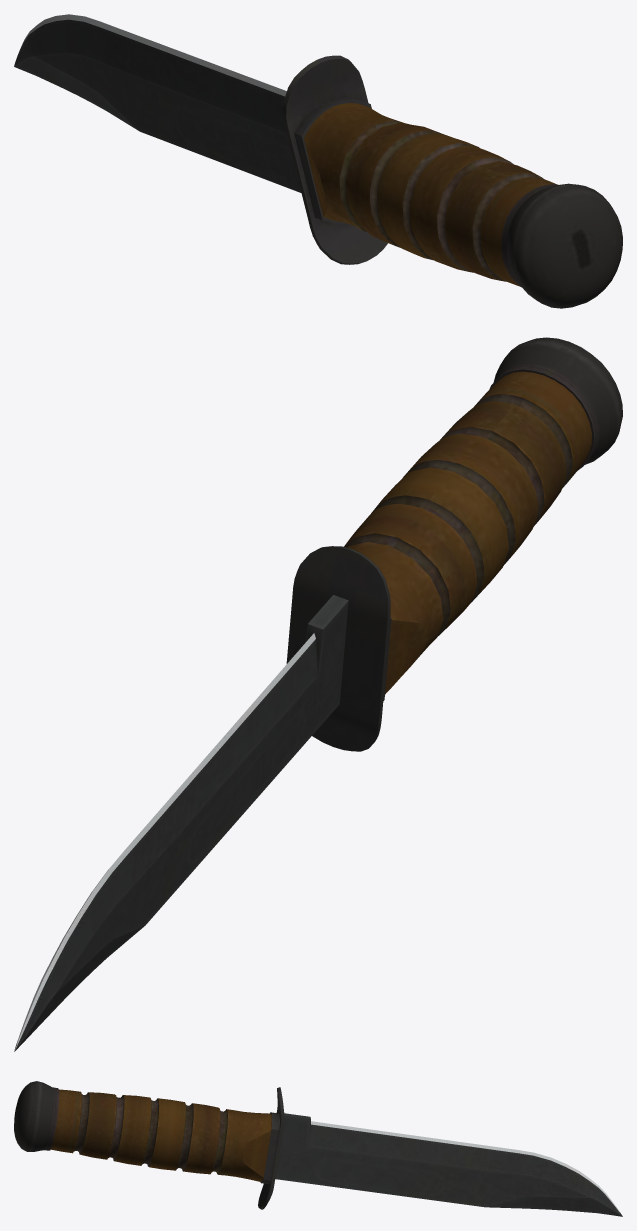
File: knife.glb
3 views of the same model, one above another, from view 1: azimuth 30°, elevation 25°; view 2: azimuth 150°, elevation 25°; view 3: azimuth 270°, elevation 25° (orthographic). The views are drawn at different scales.
Parts seen in each view (by area): view 1: Object_2; view 2: Object_2; view 3: Object_2.
Boxes of the visible parts, left/top/right/bottom form: Object_2: left=14, top=14, right=622, bottom=308; Object_2: left=14, top=337, right=622, bottom=1051; Object_2: left=14, top=1081, right=622, bottom=1216.
Size of the model in its own units: 0.0386 by 0.077 by 0.3.
Materials: 1 (1 with a texture image).
